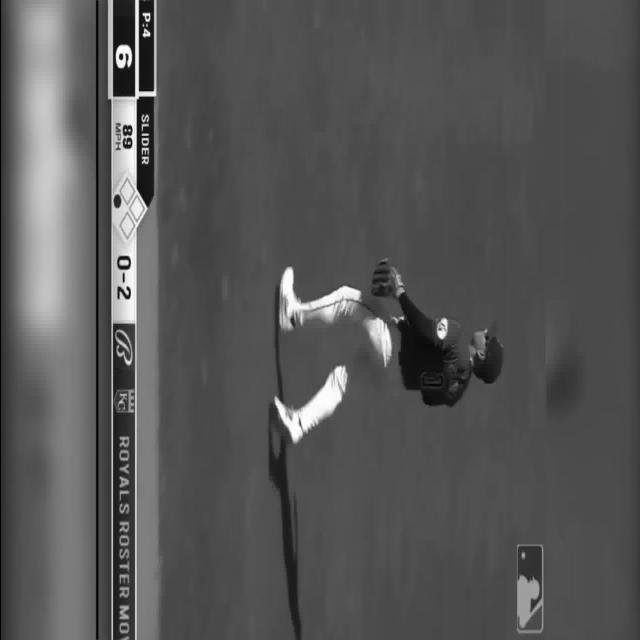baseball_glove: (371, 258, 404, 298)
shoe: (269, 398, 302, 445), (278, 267, 296, 331)
